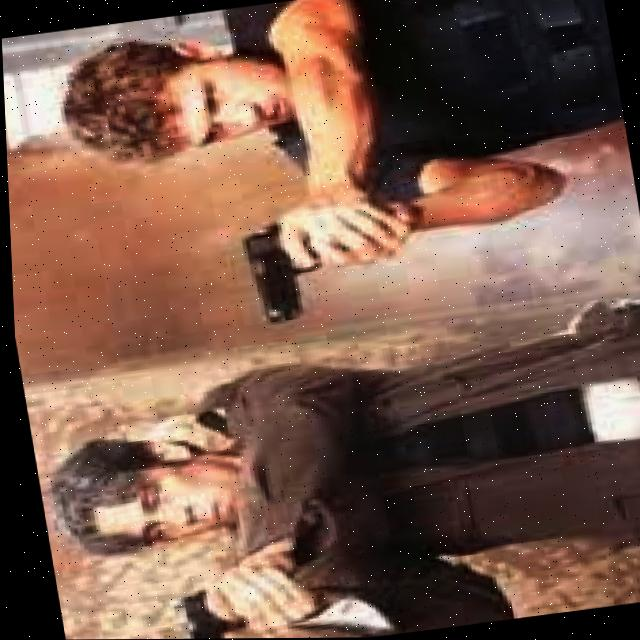pistol: (233, 215, 332, 328), (161, 581, 242, 639)
